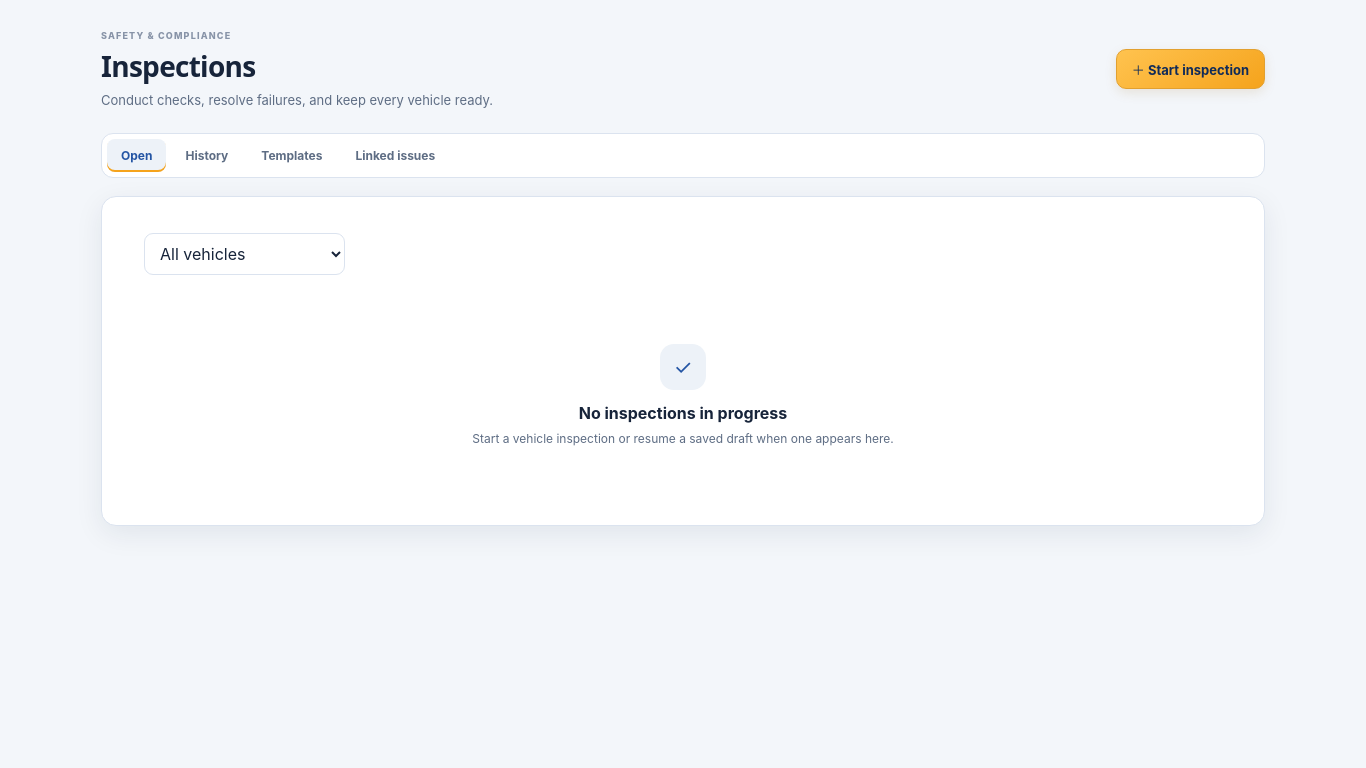
Inspections workspace › highlights failed items and creates a linked issue
Click the button "＋ Start inspection" at coordinates (1190, 69), box [1116, 49, 1265, 89]
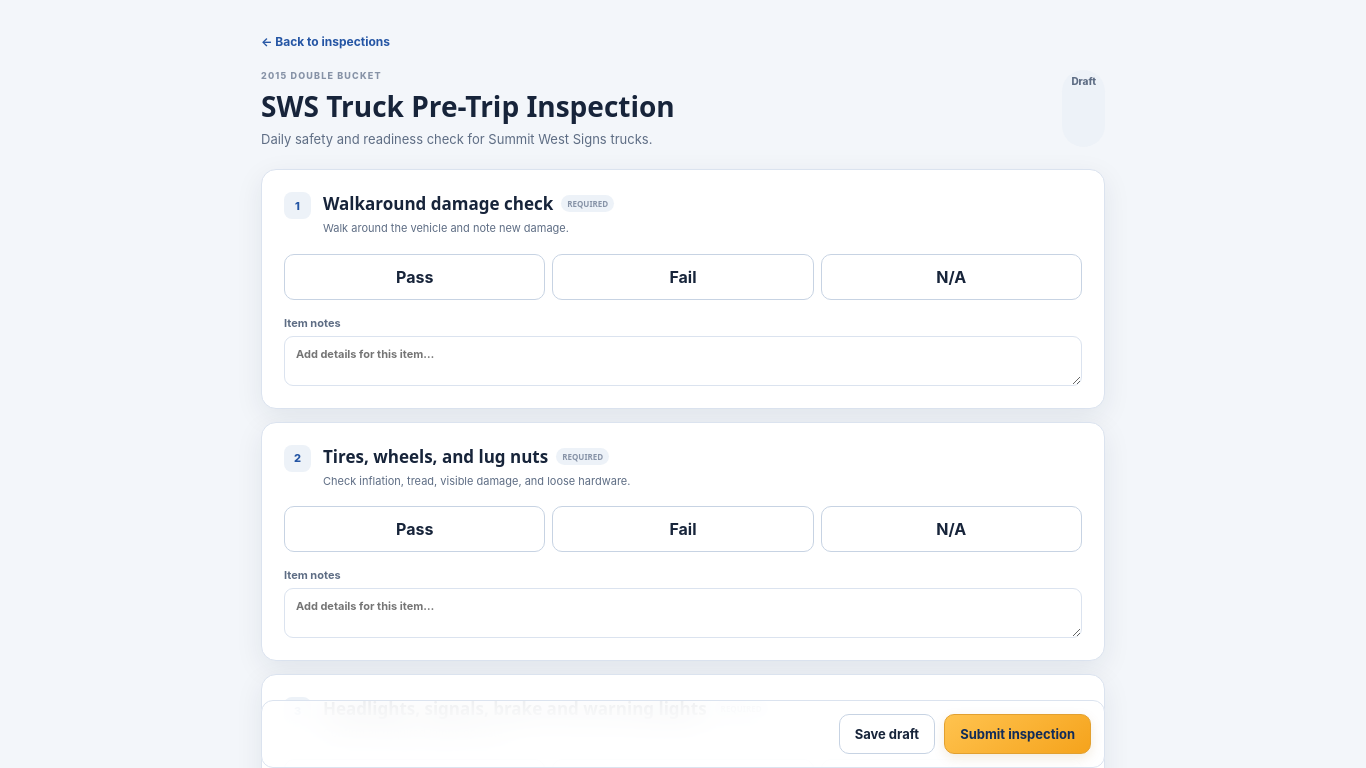
Click the button "Fail" below "Walkaround damage check" at coordinates (683, 276), box [552, 254, 814, 300]
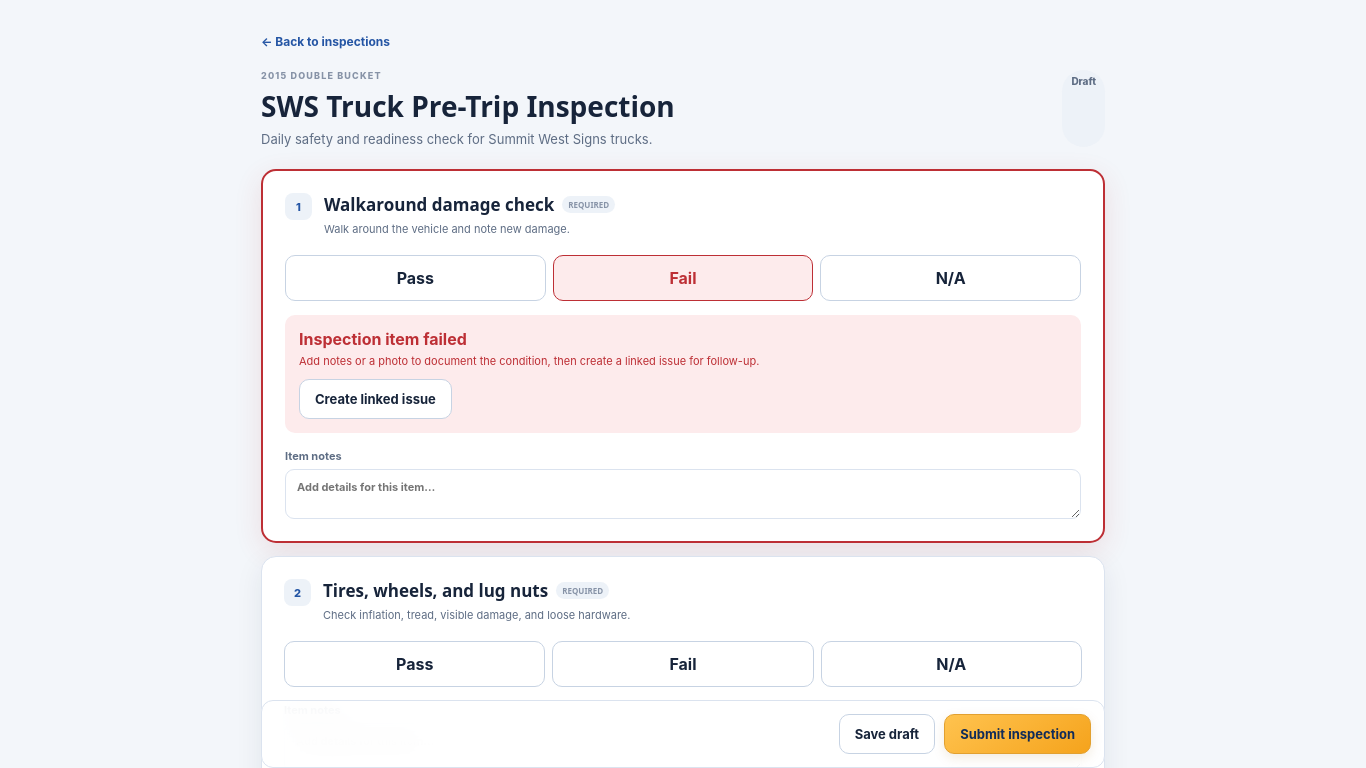
Now the element named "Fail" has class "inspection-item-failed", box [261, 169, 1105, 543]
Click the button "Create linked issue" at coordinates (375, 399), box [299, 379, 452, 419]
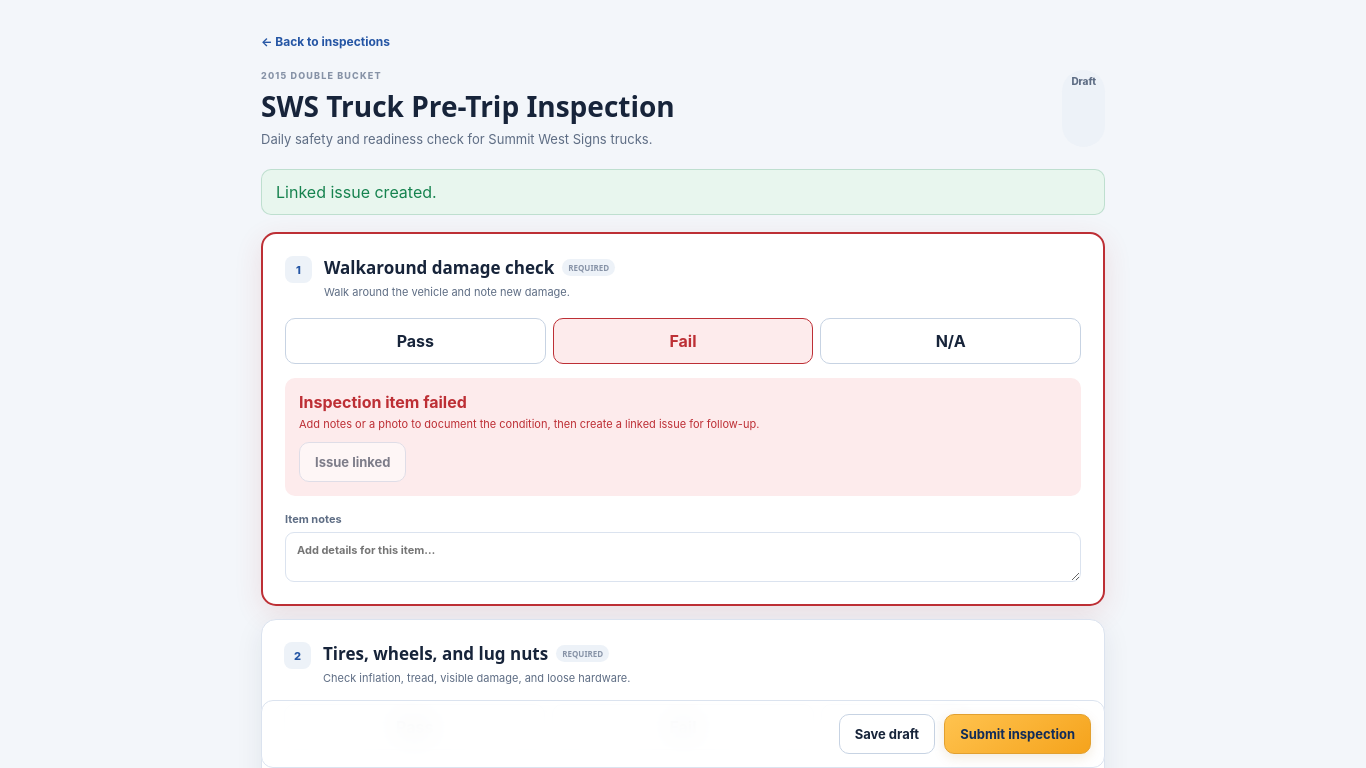
Now the text "Linked issue created." is shown, box [261, 169, 1105, 215]
